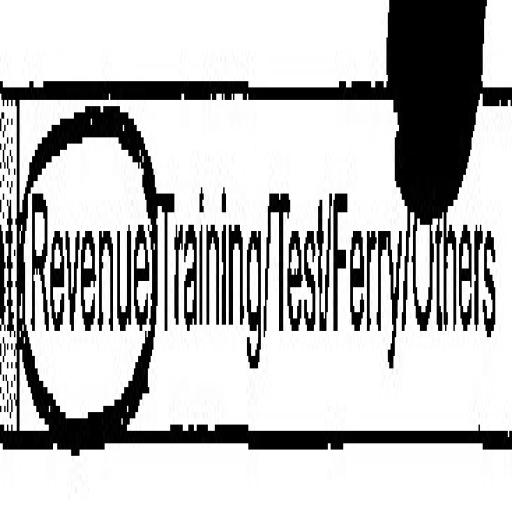check: (16, 15, 150, 512)
